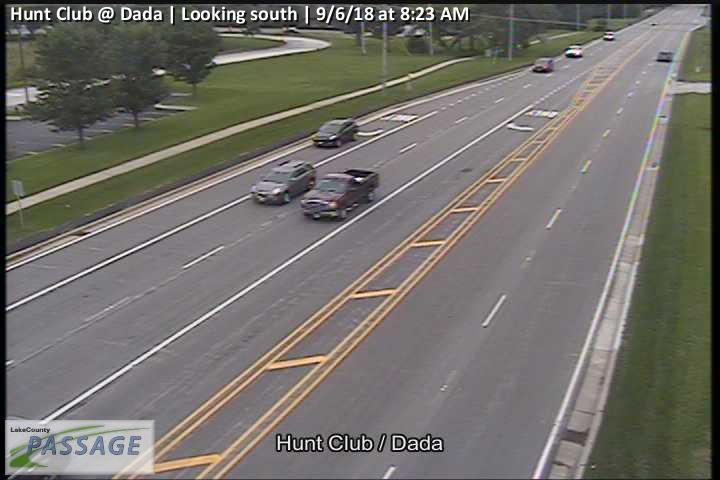SUV: (251, 160, 316, 208)
Sedan: (313, 118, 360, 150), (533, 57, 555, 73), (564, 45, 583, 57), (657, 50, 672, 62), (603, 31, 614, 40)
Truck: (300, 167, 380, 221)
